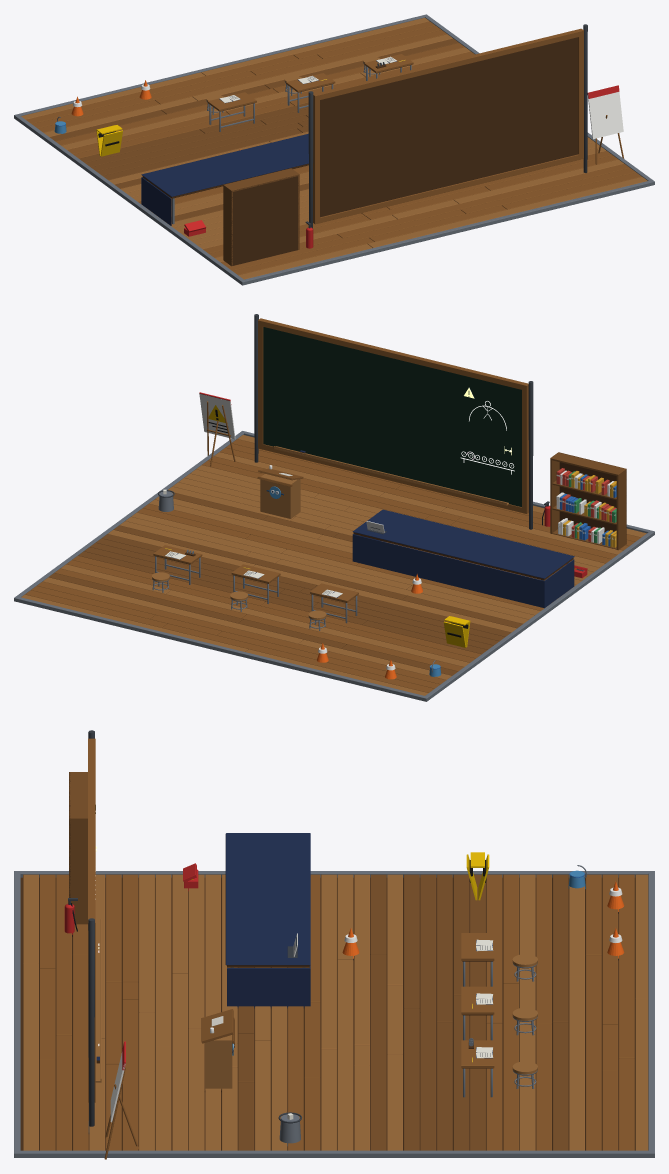
The model's file is lecture_set_props.glb.
3 renders of one model, top to bottom at view 1: azimuth 30°, elevation 25°; view 2: azimuth 150°, elevation 25°; view 3: azimuth 270°, elevation 25°, orthographic. The views are drawn at different scales.
Parts seen in each view (by area): view 1: PRP_Platform, PRP_Blackboard, PRP_Bookshelf, PRP_ExhibitTable, PRP_PosterEasel, PRP_Desk_0, PRP_Desk_1, PRP_SignPractice, PRP_Desk_2; view 2: PRP_Platform, PRP_Blackboard, PRP_ExhibitTable, PRP_Bookshelf, PRP_Lectern, PRP_PosterEasel, PRP_Desk_0, PRP_Desk_2, PRP_Desk_1, PRP_SignPractice; view 3: PRP_Platform, PRP_ExhibitTable, PRP_Blackboard, PRP_Bookshelf, PRP_Lectern, PRP_Desk_2, PRP_Desk_1, PRP_Desk_0, PRP_PosterEasel, PRP_SignPractice, PRP_Bin.
Part boxes in pixels (left/top/right/bottom): PRP_Platform: left=14, top=14, right=654, bottom=285; PRP_Blackboard: left=308, top=24, right=587, bottom=228; PRP_Bookshelf: left=223, top=168, right=299, bottom=266; PRP_ExhibitTable: left=141, top=133, right=308, bottom=225; PRP_PosterEasel: left=587, top=85, right=624, bottom=164; PRP_Desk_0: left=207, top=92, right=256, bottom=131; PRP_Desk_1: left=286, top=73, right=335, bottom=112; PRP_SignPractice: left=96, top=125, right=122, bottom=156; PRP_Desk_2: left=364, top=54, right=413, bottom=80; PRP_Platform: left=14, top=431, right=654, bottom=701; PRP_Blackboard: left=254, top=314, right=533, bottom=529; PRP_ExhibitTable: left=352, top=509, right=574, bottom=608; PRP_Bookshelf: left=550, top=452, right=626, bottom=550; PRP_Lectern: left=257, top=465, right=303, bottom=518; PRP_PosterEasel: left=199, top=392, right=235, bottom=466; PRP_Desk_0: left=310, top=583, right=358, bottom=623; PRP_Desk_2: left=153, top=545, right=202, bottom=584; PRP_Desk_1: left=231, top=564, right=280, bottom=603; PRP_SignPractice: left=443, top=616, right=470, bottom=647; PRP_Platform: left=14, top=871, right=654, bottom=1157; PRP_ExhibitTable: left=225, top=833, right=310, bottom=1008; PRP_Blackboard: left=88, top=730, right=101, bottom=1133; PRP_Bookshelf: left=69, top=772, right=87, bottom=924; PRP_Lectern: left=201, top=1009, right=234, bottom=1092; PRP_Desk_2: left=461, top=1038, right=494, bottom=1097; PRP_Desk_1: left=461, top=986, right=494, bottom=1040; PRP_Desk_0: left=461, top=933, right=494, bottom=986; PRP_PosterEasel: left=104, top=1041, right=138, bottom=1159; PRP_SignPractice: left=466, top=852, right=489, bottom=900; PRP_Bin: left=278, top=1112, right=301, bottom=1146.
Bounding box in the file's own units: 12.21 × 4.21 × 11.62.
